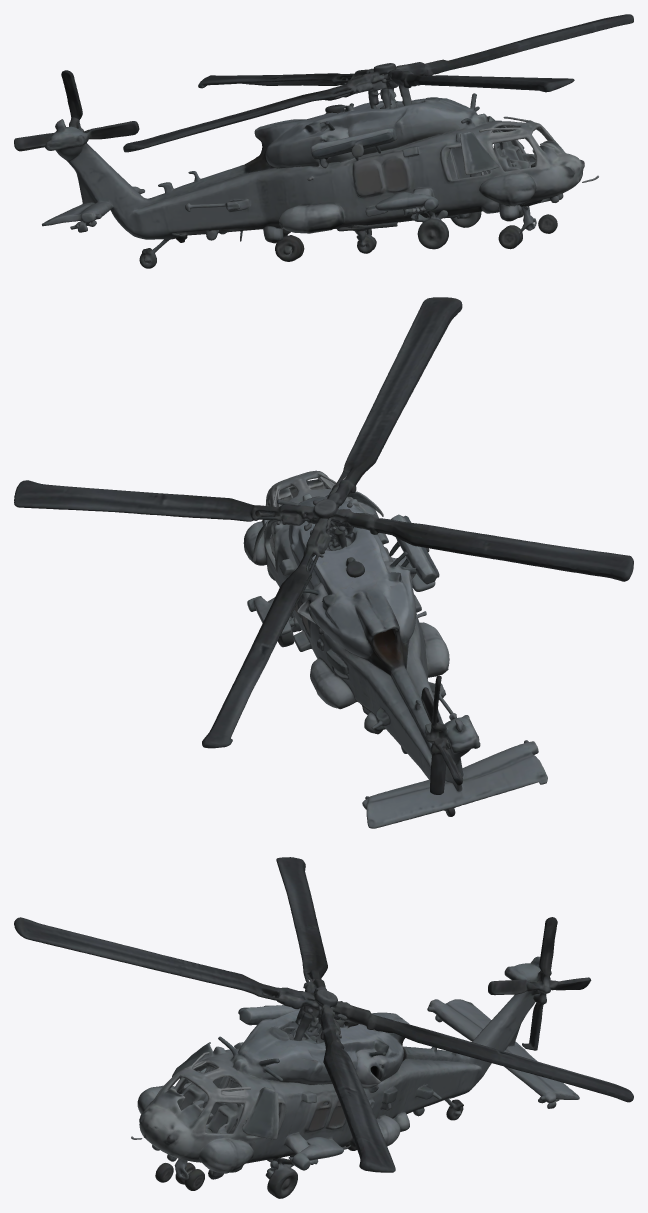
The model's file is pixal3d.glb.
3 renders of one model, top to bottom at view 1: azimuth 30°, elevation 25°; view 2: azimuth 150°, elevation 25°; view 3: azimuth 270°, elevation 25°, orthographic. The views are drawn at different scales.
Visible parts, largest first — view 1: world; view 2: world; view 3: world.
Boxes of the visible parts, box(x1,y1,x2,y2) form: world: box(14, 14, 633, 268); world: box(14, 297, 633, 828); world: box(14, 857, 633, 1198).
Bounding box in the file's own units: 0.8307 × 0.4188 × 0.7718.
Materials: 1 (1 with a texture image).
